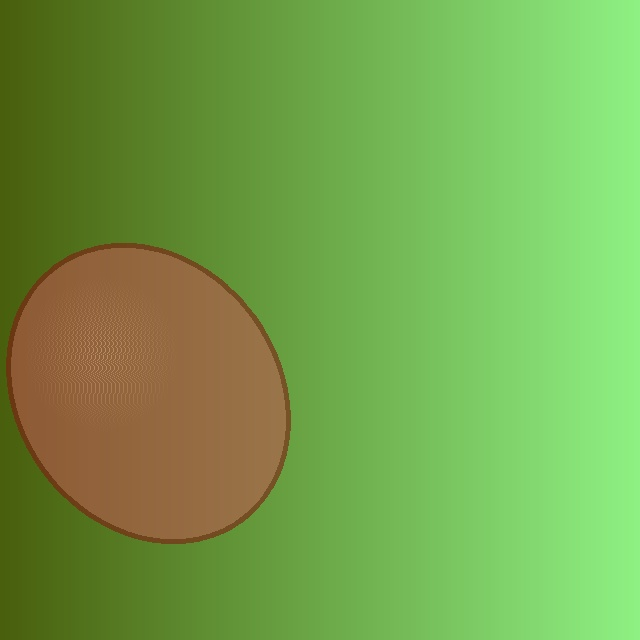lens: (8, 245, 288, 541)
